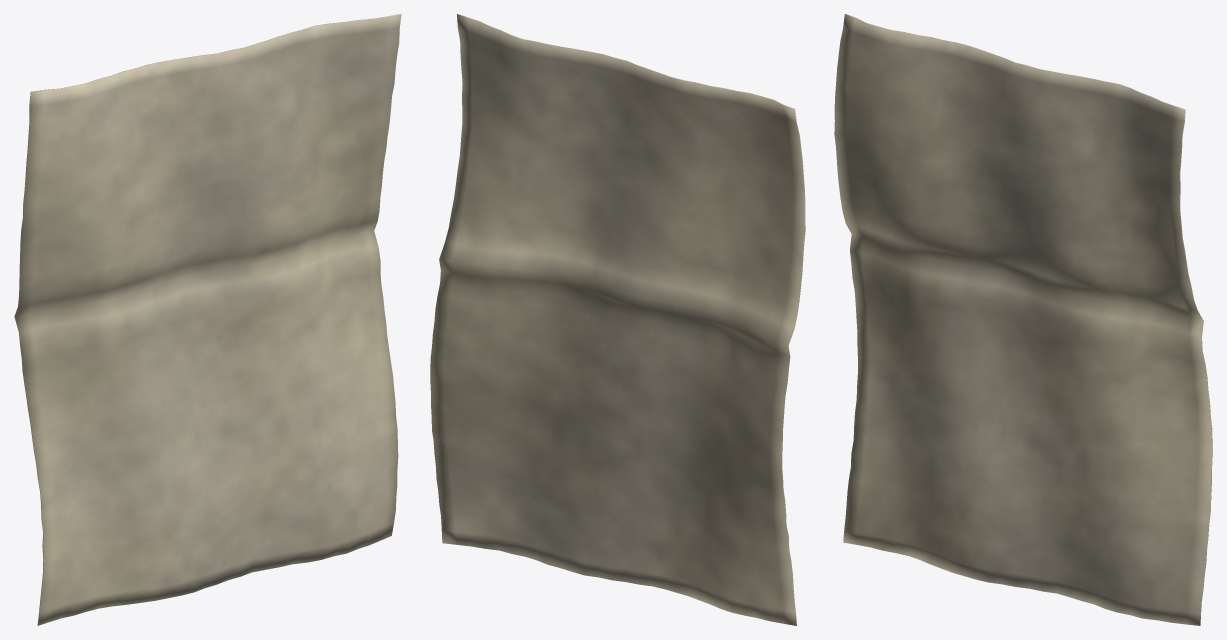
3 renders of one model, left to right at view 1: azimuth 30°, elevation 25°; view 2: azimuth 150°, elevation 25°; view 3: azimuth 330°, elevation 25°, orthographic. The views are drawn at different scales.
Parts seen in each view (by area): view 1: blatt; view 2: blatt; view 3: blatt.
Part boxes in pixels (left/top/right/bottom): blatt: left=14, top=14, right=401, bottom=625; blatt: left=430, top=14, right=805, bottom=625; blatt: left=834, top=14, right=1212, bottom=625.
Bounding box in the file's own units: 0.156 × 0.21 × 0.0183.
1 material, 1 textured.
